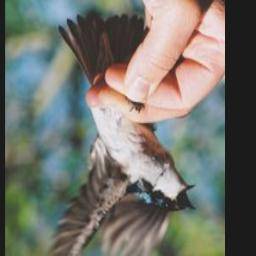Swallow: (29, 13, 199, 256)
